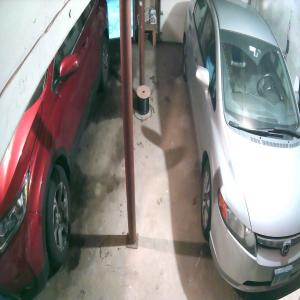honda civic: (182, 0, 300, 300)
honda crv: (0, 0, 109, 299)
